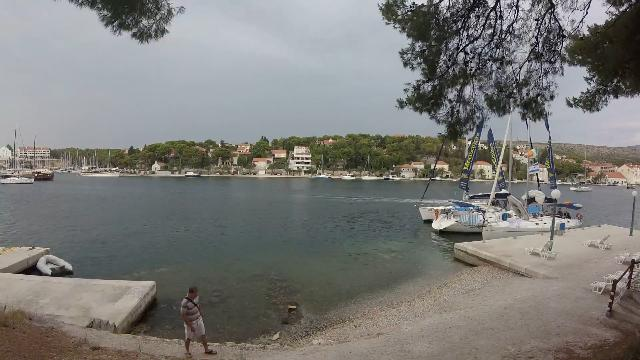Freighter: (1, 157, 62, 183)
Sailboat: (1, 172, 42, 186)
